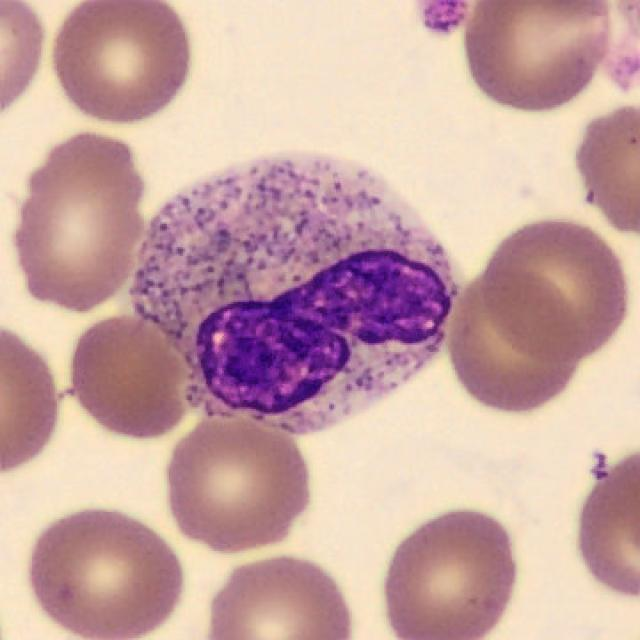Neutrofilo segmentado: (132, 151, 459, 436)
